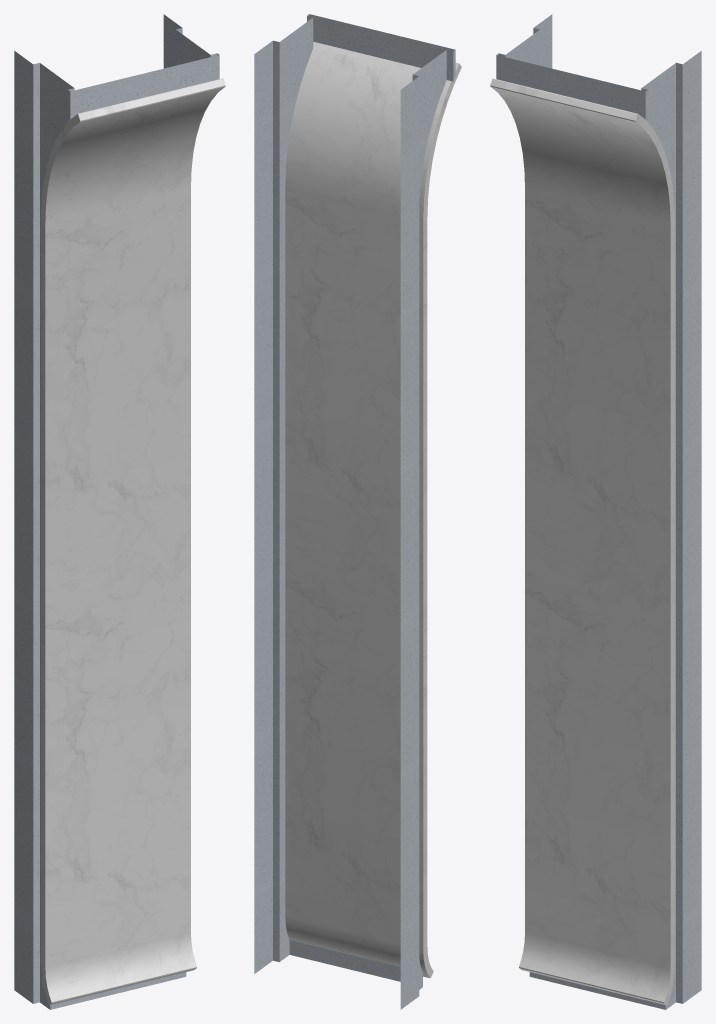
3 renders of one model, left to right at view 1: azimuth 30°, elevation 25°; view 2: azimuth 150°, elevation 25°; view 3: azimuth 330°, elevation 25°, orthographic. The views are drawn at different scales.
Parts seen in each view (by area): view 1: M_W_005_e_2x12; view 2: M_W_005_e_2x12; view 3: M_W_005_e_2x12.
Boxes of the visible parts, x1,y1,x2,y2 form: M_W_005_e_2x12: [14, 14, 225, 1009]; M_W_005_e_2x12: [254, 14, 461, 1009]; M_W_005_e_2x12: [490, 14, 701, 1009].
Bounding box in the file's own units: 2 × 12.02 × 1.49.
